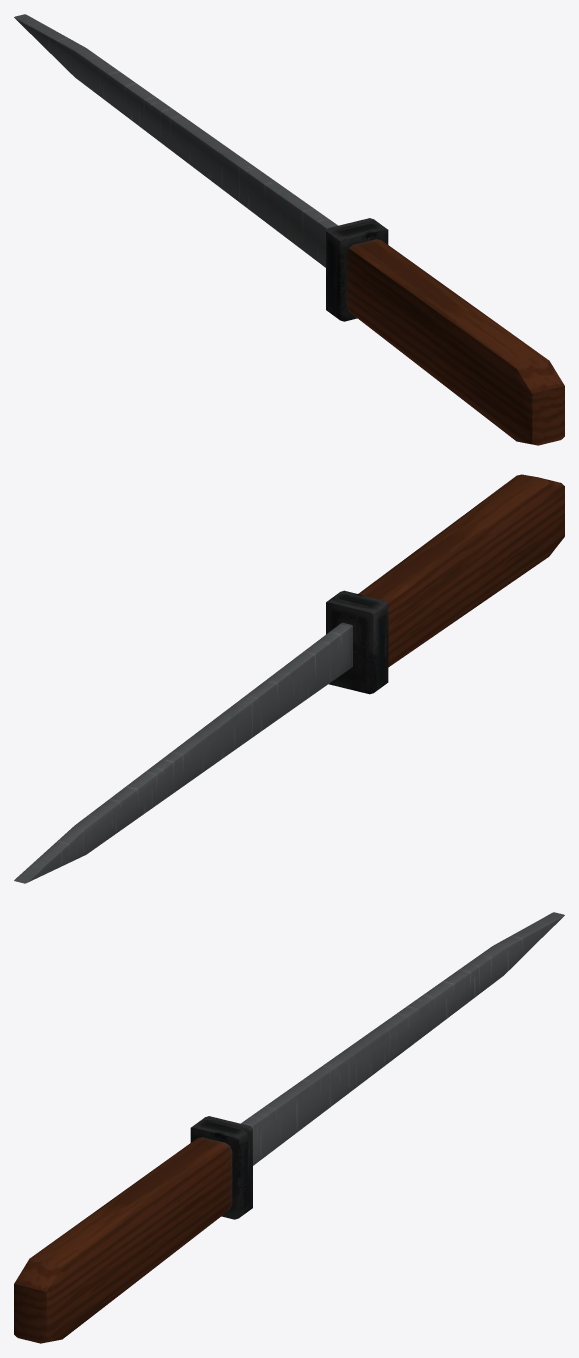
The model's file is knife_stiletto.glb.
3 views of the same model, one above another, from view 1: azimuth 30°, elevation 25°; view 2: azimuth 150°, elevation 25°; view 3: azimuth 330°, elevation 25° (orthographic).
Visible parts, largest first — view 1: body_furniture, body_receiver; view 2: body_receiver, body_furniture; view 3: body_furniture, body_receiver.
Boxes of the visible parts, box(x1,y1,x2,y2) form: body_furniture: box(346, 239, 564, 445); body_receiver: box(14, 14, 388, 321); body_receiver: box(14, 590, 388, 883); body_furniture: box(358, 474, 564, 667); body_furniture: box(14, 1137, 232, 1343); body_receiver: box(190, 912, 564, 1219).
Size of the model in its own units: 0.022 by 0.034 by 0.399.
Materials: 2 (2 with a texture image).
